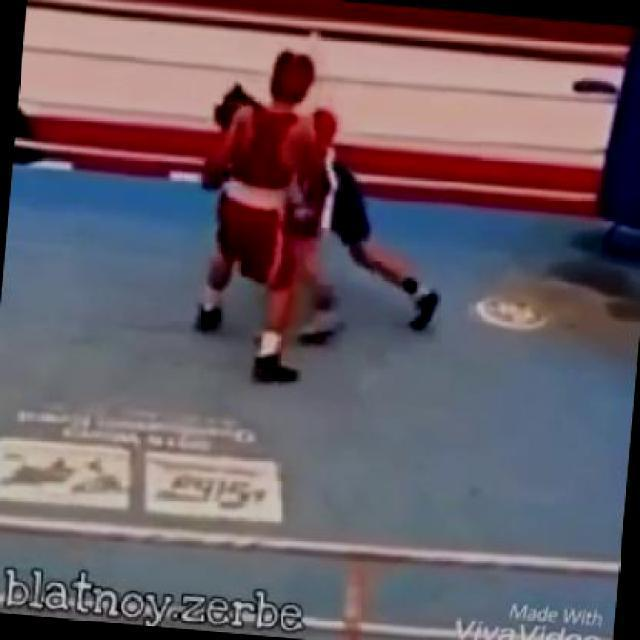fight: (179, 38, 381, 396)
